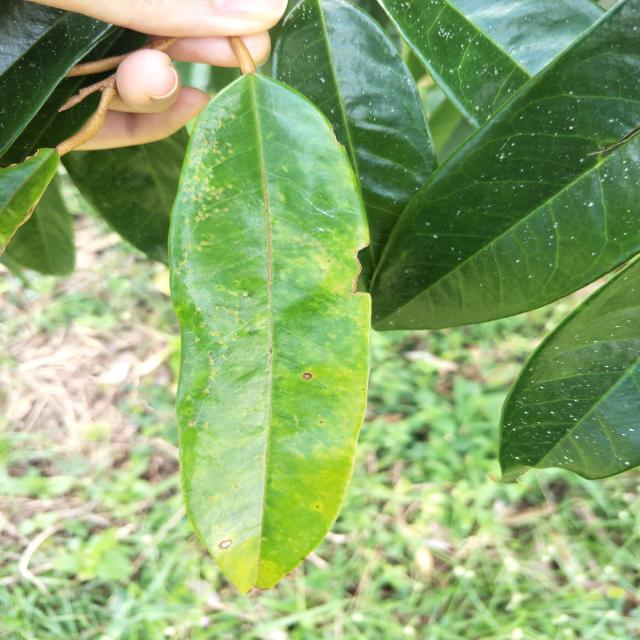Leaf Spot: (280, 363, 322, 392), (208, 534, 242, 564)
